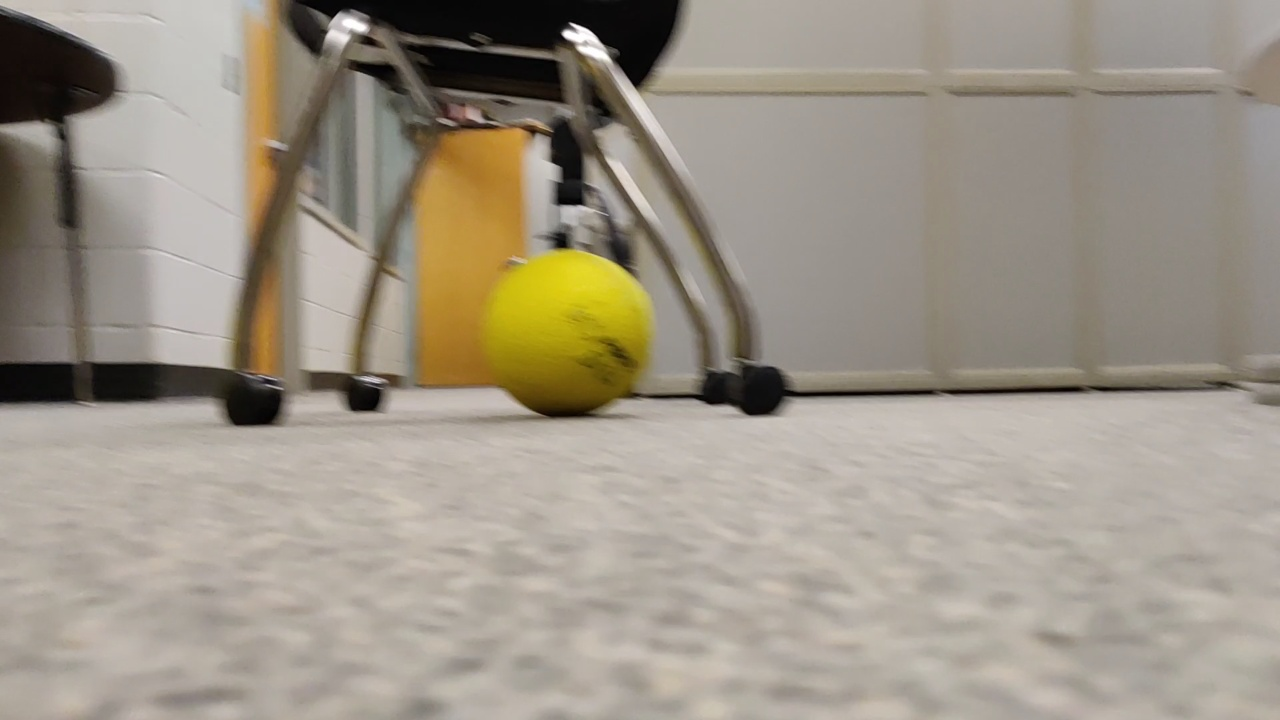Ball: (480, 250, 659, 419)
